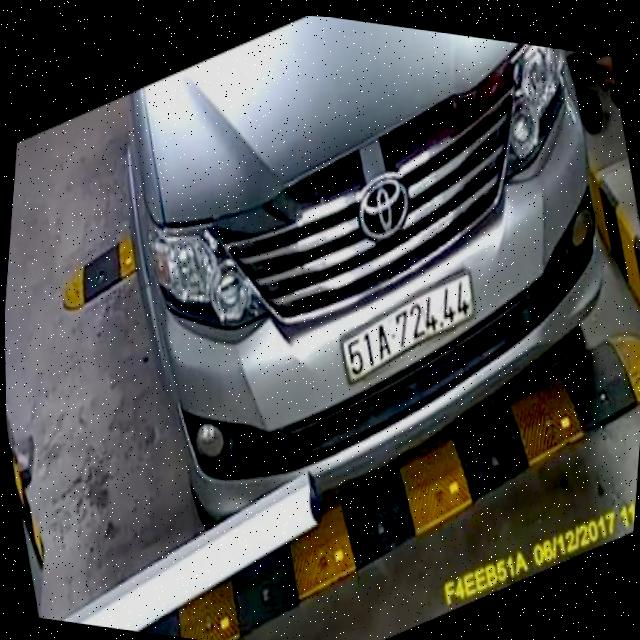car: (91, 5, 632, 576)
plate: (336, 254, 484, 403)
